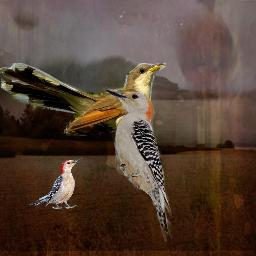Cuckoo: (0, 63, 166, 136)
Woodpecker: (103, 82, 177, 242), (26, 157, 83, 209)
